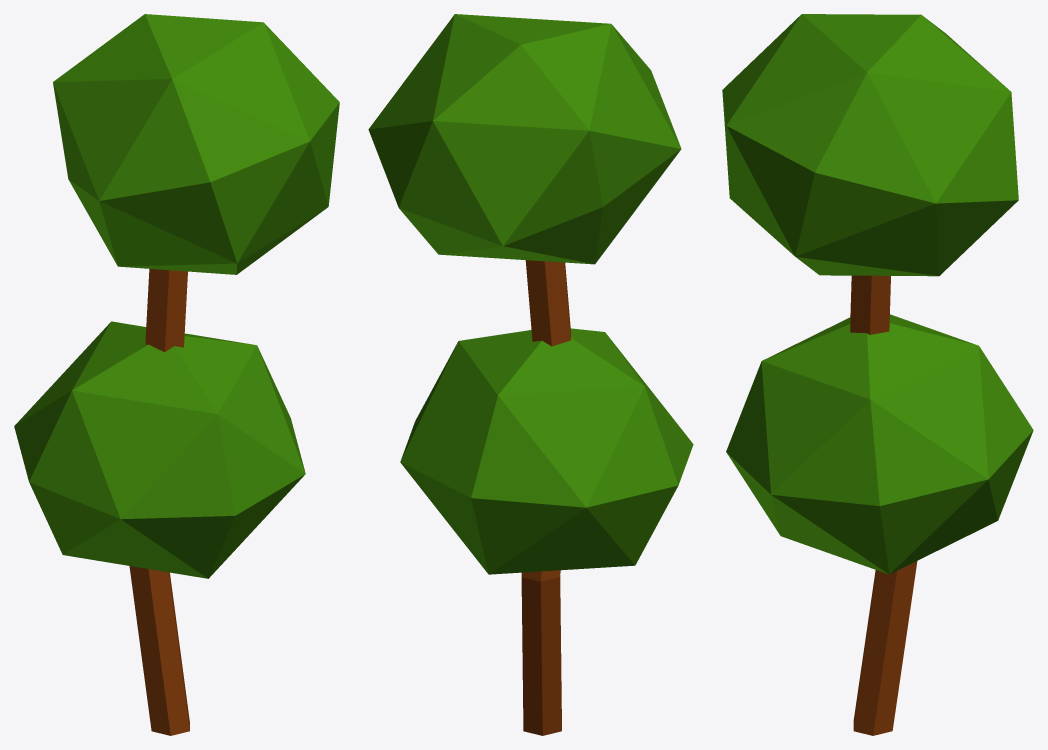
The model's file is Bush_g_02.fbx.
3 renders of one model, left to right at view 1: azimuth 30°, elevation 25°; view 2: azimuth 150°, elevation 25°; view 3: azimuth 270°, elevation 25°, orthographic. The views are drawn at different scales.
Parts seen in each view (by area): view 1: Bush_g_02_LOD0; view 2: Bush_g_02_LOD0; view 3: Bush_g_02_LOD0.
Part boxes in pixels (x1,y1,x2,y2): Bush_g_02_LOD0: (14, 14, 339, 735); Bush_g_02_LOD0: (368, 14, 693, 735); Bush_g_02_LOD0: (722, 14, 1033, 735).
Size of what is drawn, in the model's own units: 18.63 by 44.11 by 17.52.
